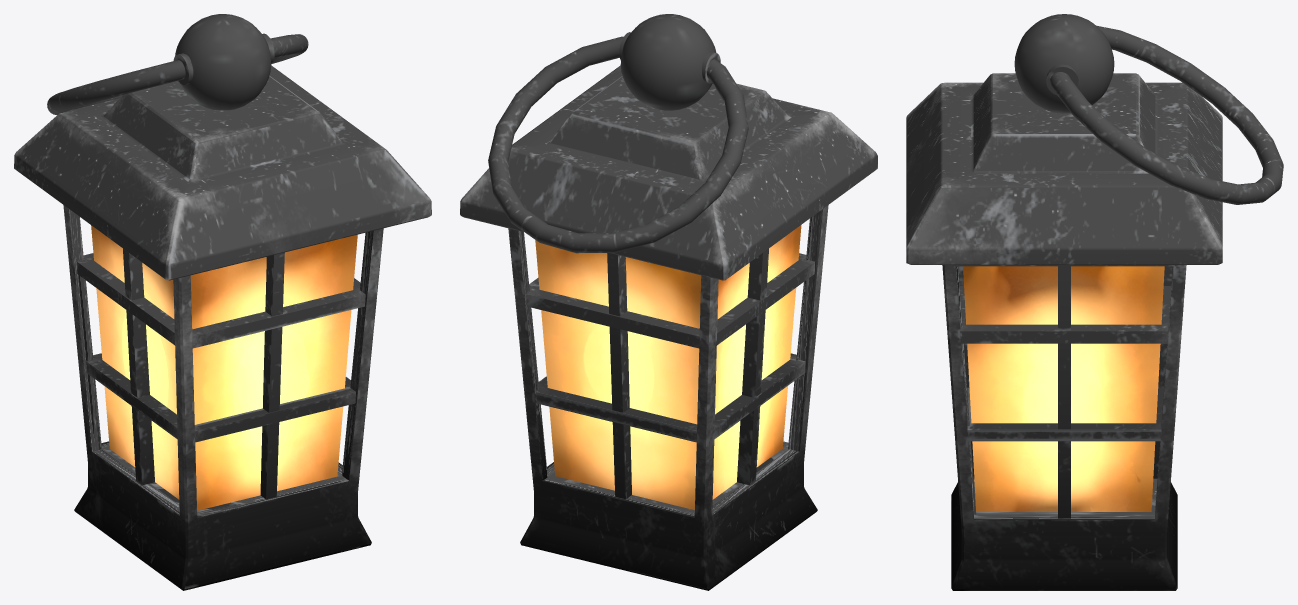
Rendered from Lantern.fbx.
The picture shows the model from 3 angles, left to right: view 1: azimuth 30°, elevation 25°; view 2: azimuth 150°, elevation 25°; view 3: azimuth 270°, elevation 25°; orthographic projection. The views are drawn at different scales.
Parts seen in each view (by area): view 1: Metal_Metal_Base_0, Light_Light_Base_0; view 2: Metal_Metal_Base_0, Light_Light_Base_0; view 3: Metal_Metal_Base_0, Light_Light_Base_0.
Boxes of the visible parts, x1,y1,x2,y2 form: Metal_Metal_Base_0: (14, 14, 431, 590); Light_Light_Base_0: (91, 225, 357, 510); Metal_Metal_Base_0: (460, 14, 877, 590); Light_Light_Base_0: (535, 225, 801, 509); Metal_Metal_Base_0: (906, 14, 1283, 590); Light_Light_Base_0: (963, 266, 1164, 511).
Bounding box in the file's own units: 3067 × 5618 × 3659.
2 materials, 2 textured.
